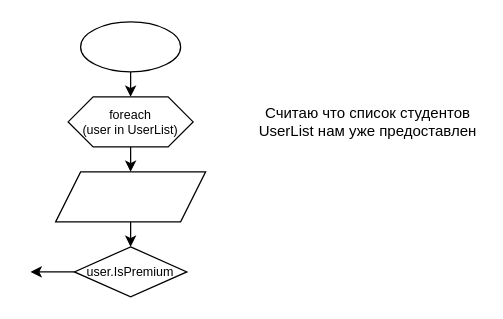
This 503x319 diagram has some shape labels left out. The shapes that lost their labels are listed below. From the top down, each one's centre as x and y in pixels, then its label:
point 130,46: начало
point 130,196: Вывести: "Здравствуйте, " + user.Name
